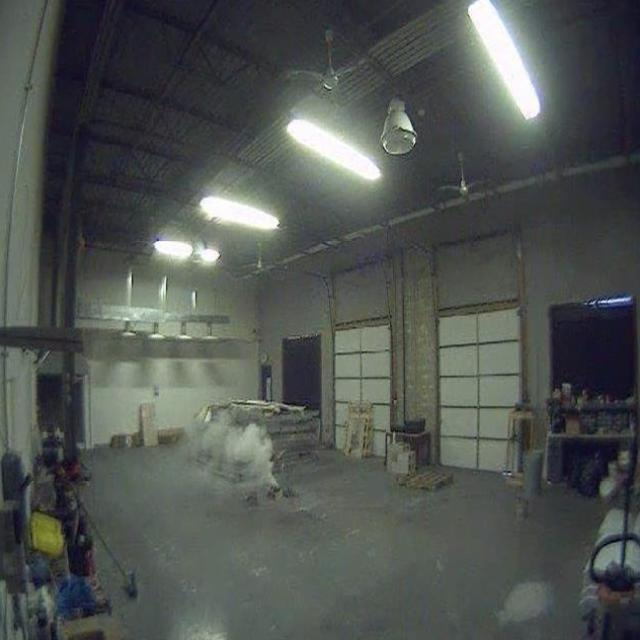fire: (186, 413, 281, 494)
